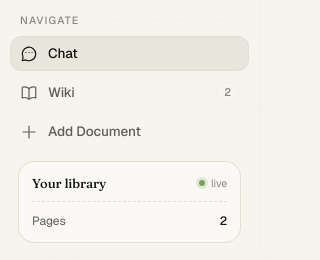
it: Sidebar — Wiki button on mobile › sets aria-expanded to true when Wiki is clicked
This screenshot has width=320, height=260.
Click the button "Wiki 2": (130, 93) x1=10 y1=75 x2=249 y2=110
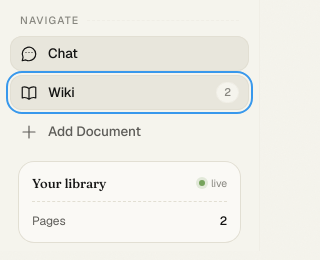
Expected: the button "Wiki 2" is expanded, x1=10 y1=75 x2=249 y2=110
